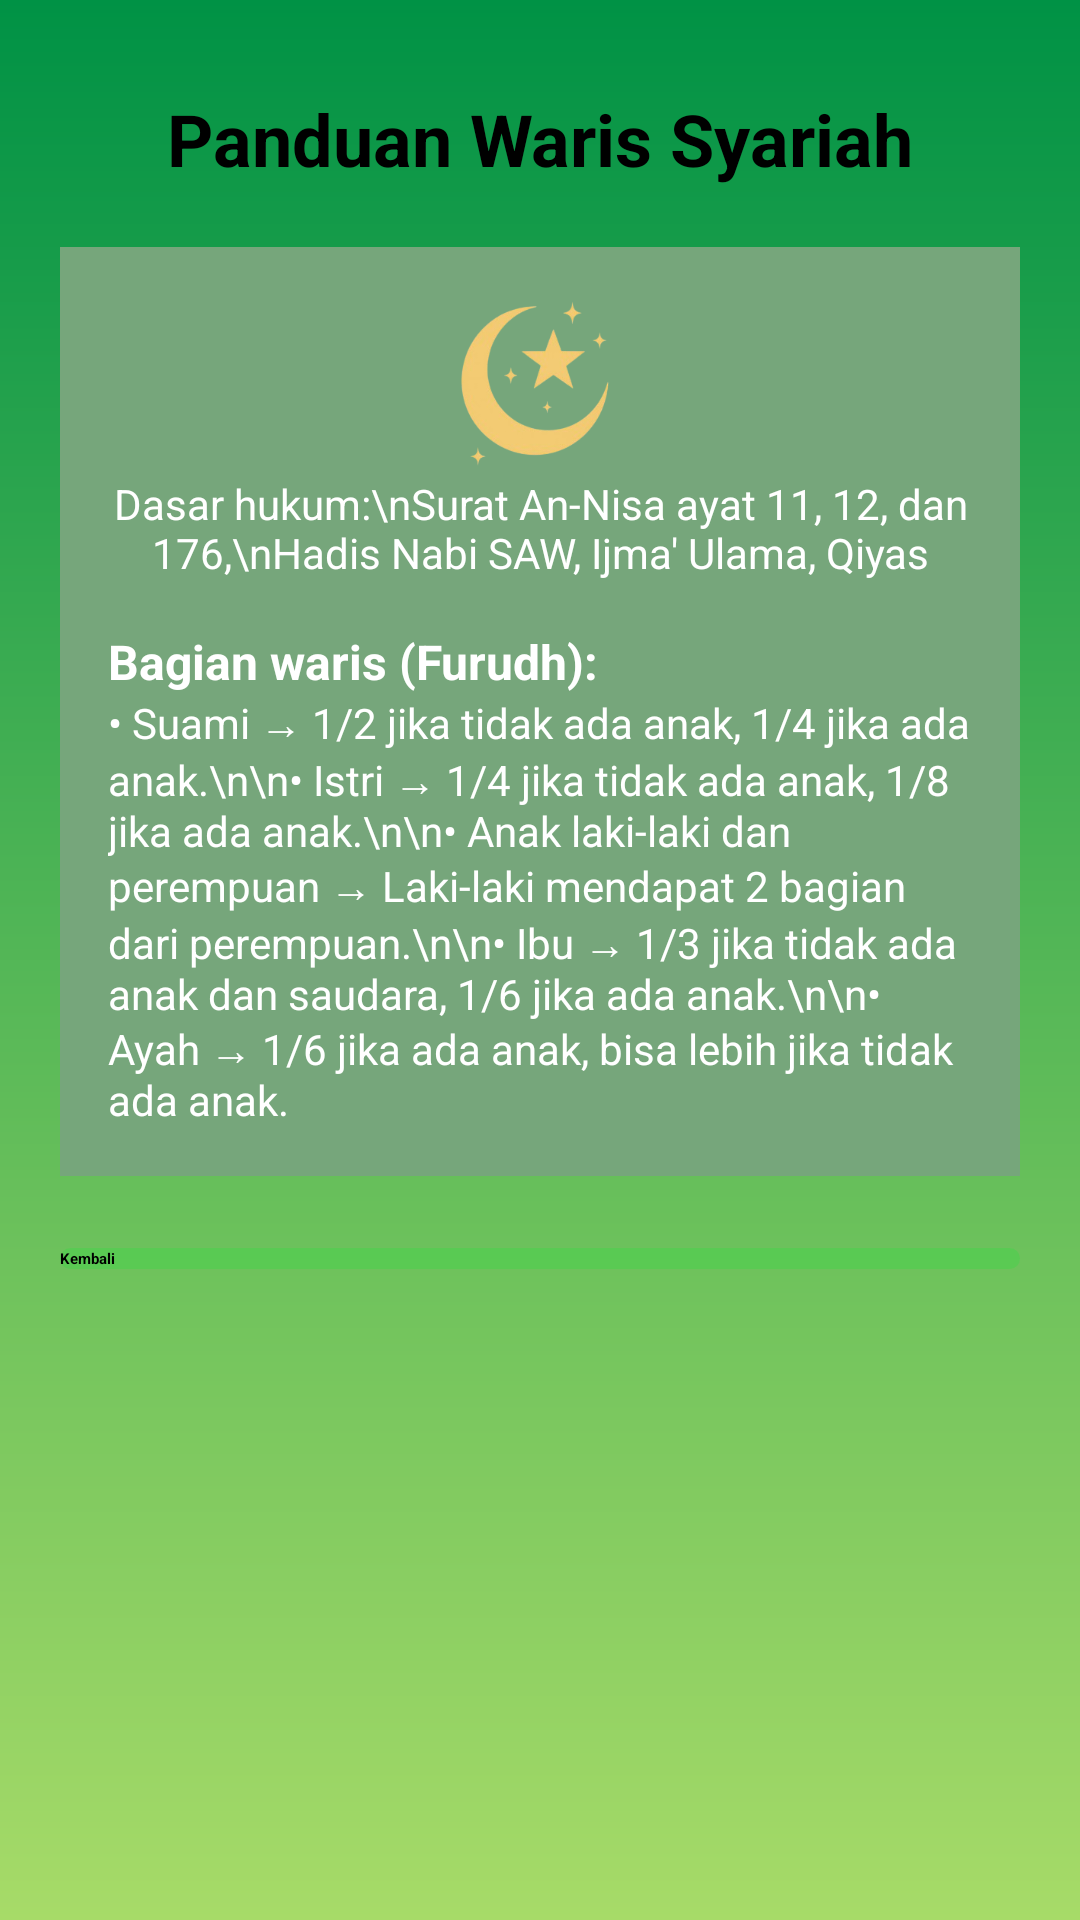

Where icons sit on this 1080×1920 app screen, as [x1,y1,x2,y2]:
Icon Islam: [461,302,609,465]
